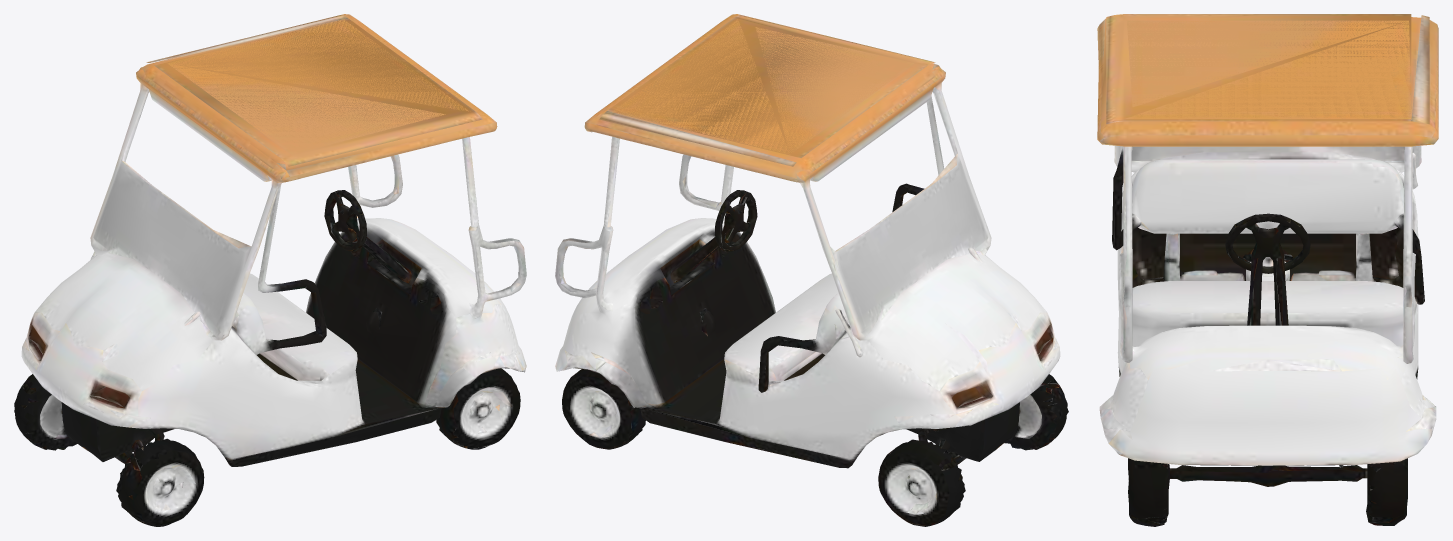
The model's file is golfcart.glb.
3 renders of one model, left to right at view 1: azimuth 30°, elevation 25°; view 2: azimuth 150°, elevation 25°; view 3: azimuth 270°, elevation 25°, orthographic. The views are drawn at different scales.
Size of the model in its own units: 1.91 by 1.5 by 1.18.
Materials: 1 (1 with a texture image).
